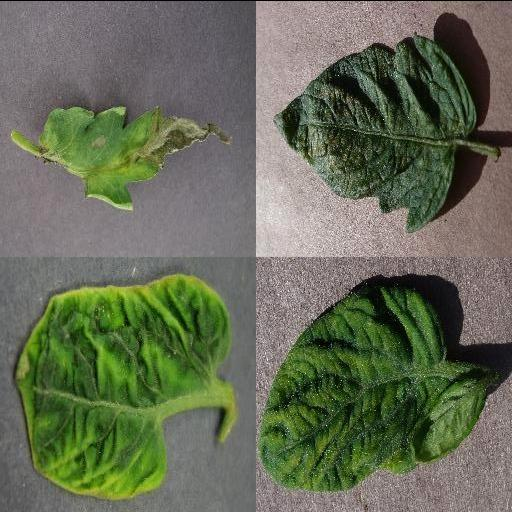Late Blight: (37, 105, 233, 211)
Spider Mites: (274, 35, 476, 233)
Yellow Leaf Curl Virus: (13, 272, 231, 499), (258, 281, 492, 491)
